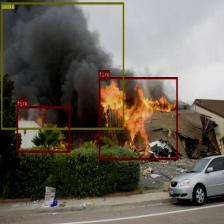fire: (99, 77, 178, 160), (16, 106, 70, 152)
smoke: (1, 2, 124, 129)
